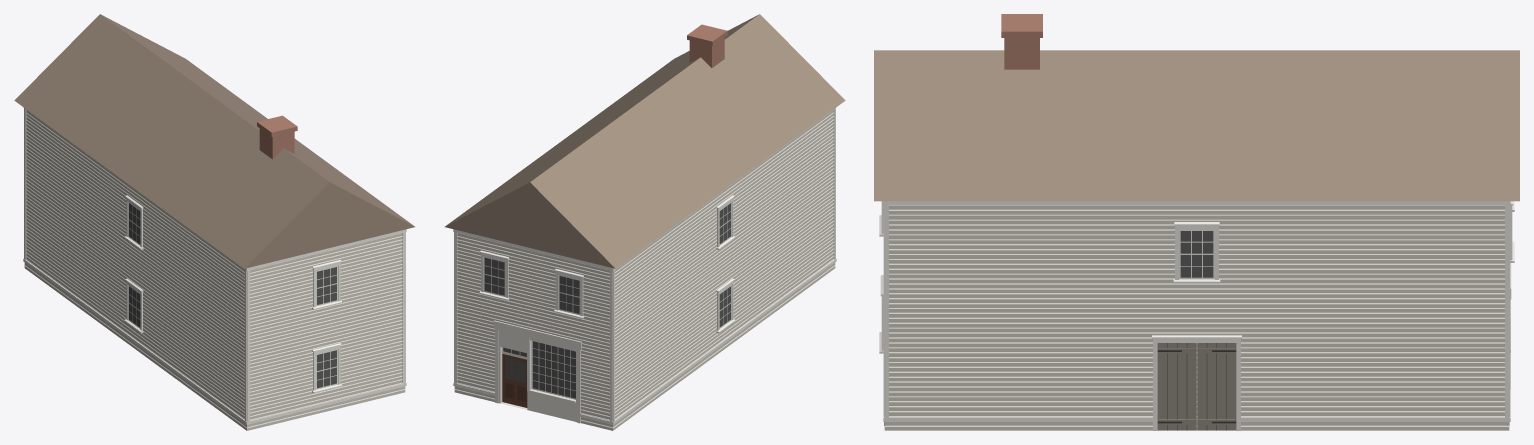
Rendered from recon_1835_canal_trade_c3_001__inferred_1835.glb.
3 views of the same model, side by side, from view 1: azimuth 30°, elevation 25°; view 2: azimuth 150°, elevation 25°; view 3: azimuth 270°, elevation 25° (orthographic). The views are drawn at different scales.
Visible parts, largest first — view 1: recon_1835_canal_trade_c3_001__inferred_1835; view 2: recon_1835_canal_trade_c3_001__inferred_1835; view 3: recon_1835_canal_trade_c3_001__inferred_1835.
Part boxes in pixels (x1=…): recon_1835_canal_trade_c3_001__inferred_1835: x1=14, y1=14, x2=414, y2=430; recon_1835_canal_trade_c3_001__inferred_1835: x1=445, y1=14, x2=845, y2=430; recon_1835_canal_trade_c3_001__inferred_1835: x1=874, y1=14, x2=1519, y2=430.
Bounding box in the file's own units: 6.52 × 9.15 × 15.15.
